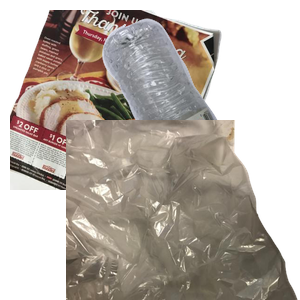glass: (98, 168, 251, 300)
paper: (10, 10, 224, 190)
plastic: (100, 16, 300, 196)
trash: (66, 120, 300, 300)
